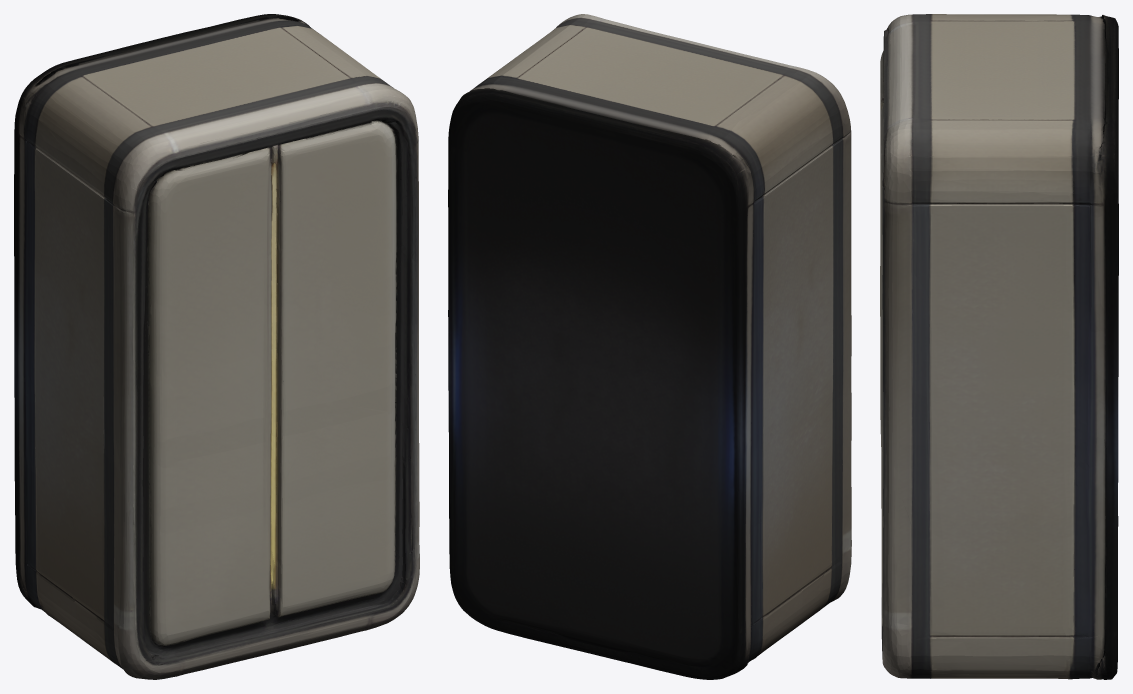
The model's file is wardrobe.glb.
The picture shows the model from 3 angles, left to right: view 1: azimuth 30°, elevation 25°; view 2: azimuth 150°, elevation 25°; view 3: azimuth 270°, elevation 25°; orthographic projection. The views are drawn at different scales.
Visible parts, largest first — view 1: world; view 2: world; view 3: world.
Boxes of the visible parts, <box> form: world: <box>14,14,419,679</box>; world: <box>448,14,851,679</box>; world: <box>880,14,1118,679</box>.
Bounding box in the file's own units: 0.5788 × 0.9995 × 0.3908.
Materials: 1 (1 with a texture image).
